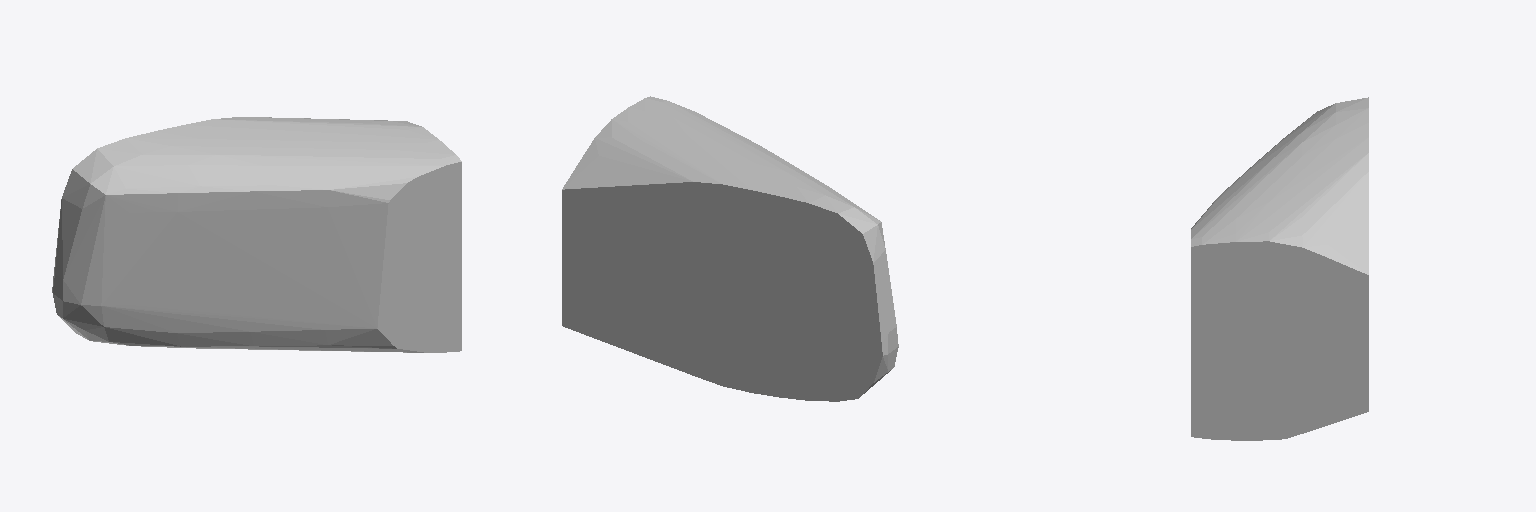
File: Monkey wrench_collision_8.obj
3 views of the same model, side by side, from view 1: azimuth 30°, elevation 25°; view 2: azimuth 150°, elevation 25°; view 3: azimuth 270°, elevation 25° (orthographic).
Bounding box in the file's own units: 29.3 × 18.38 × 13.97.